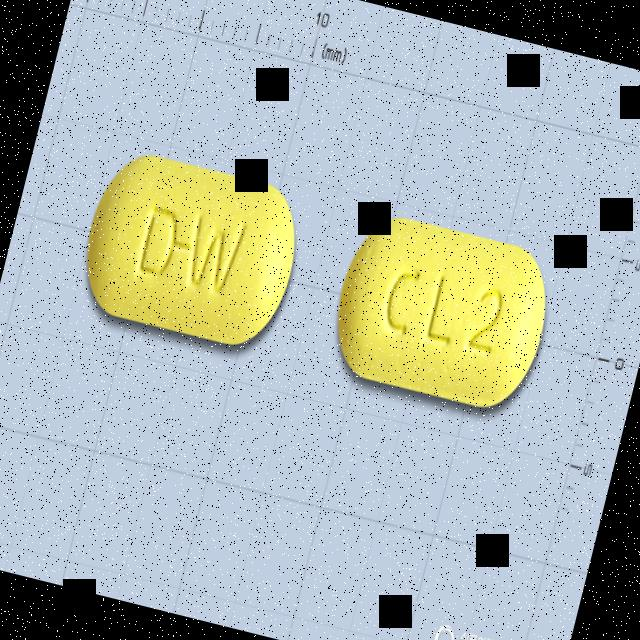Clearmycin - 250mg: (70, 142, 312, 356), (322, 205, 561, 416)
